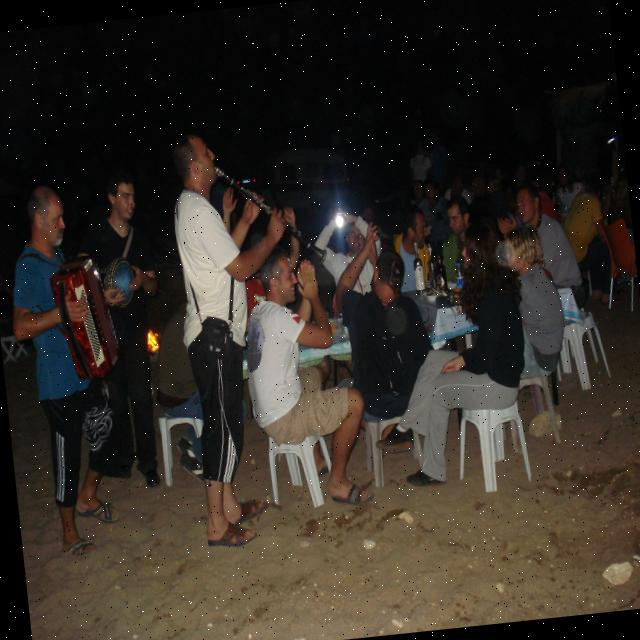clarinet: (210, 154, 330, 276)
